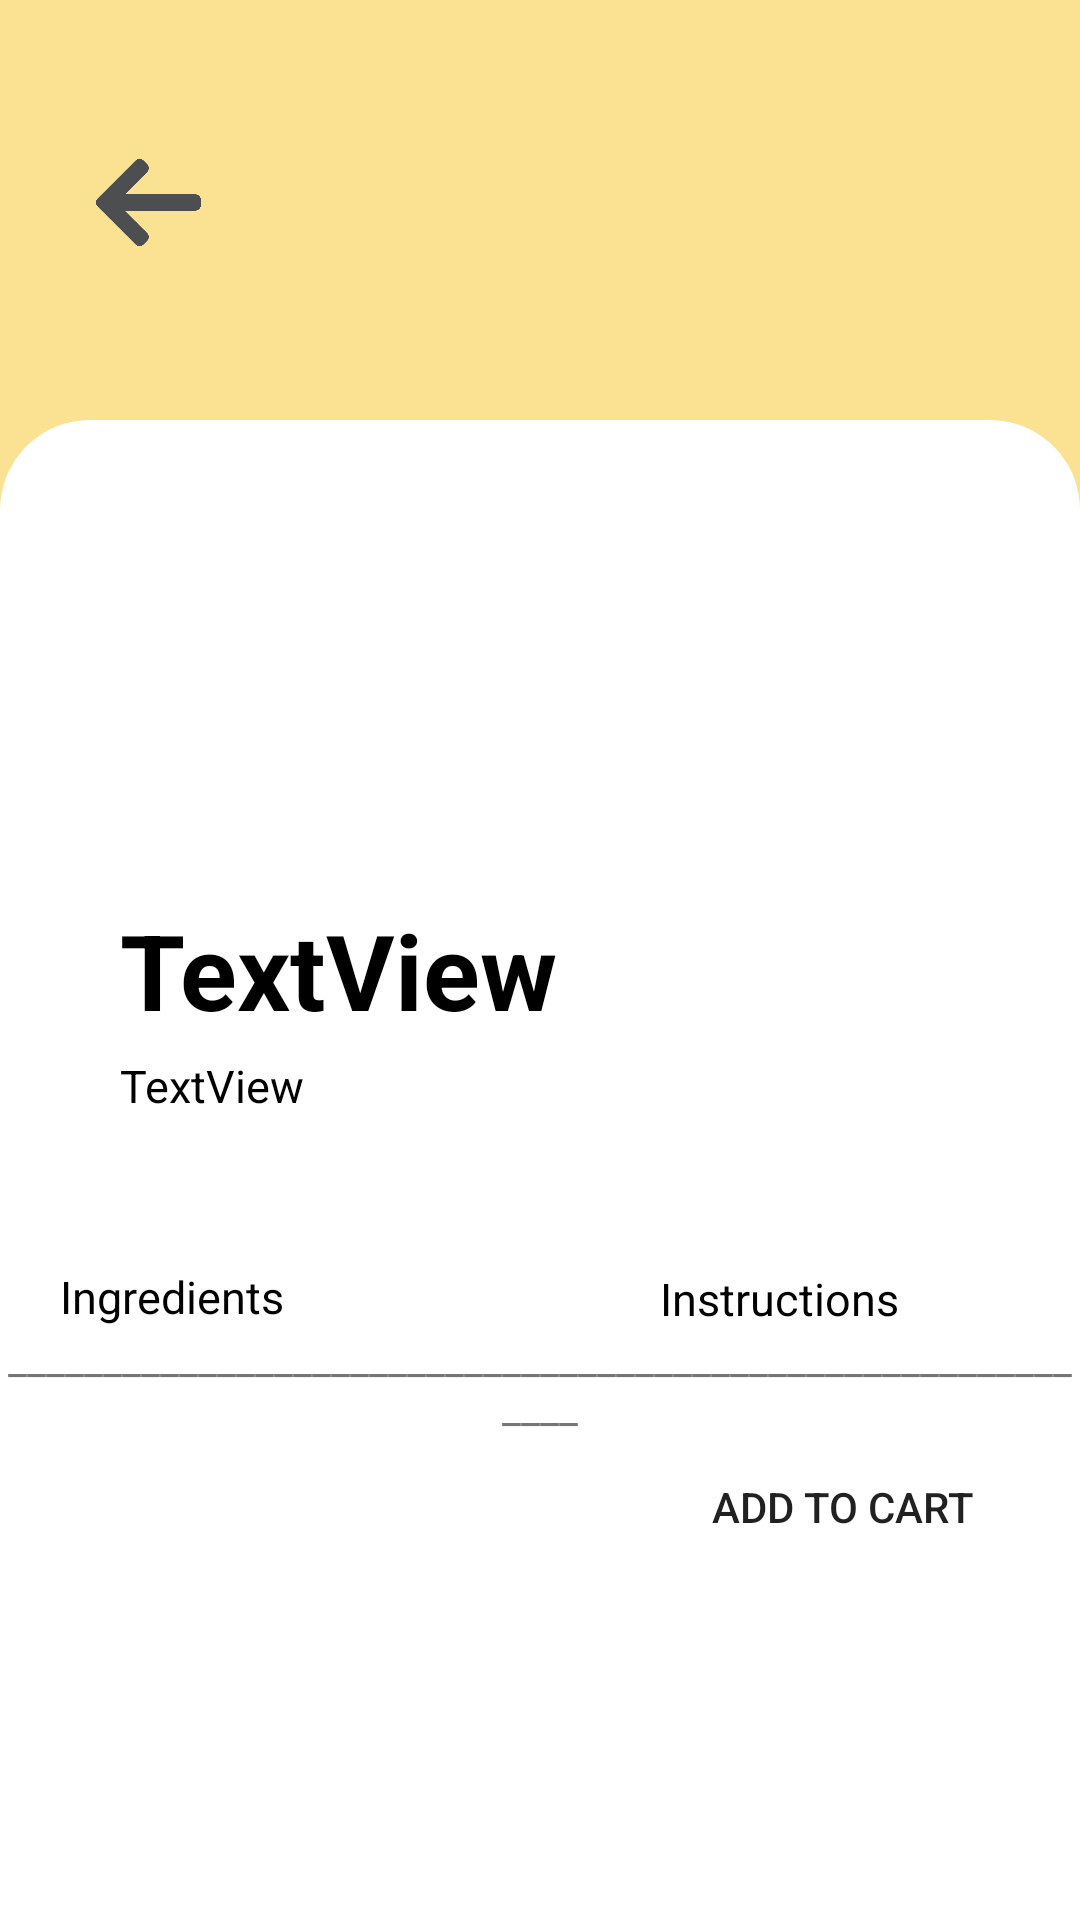

Icons on this 1080×1920 Android screen, each with its box as (x1, y1, x2, y2):
left arrow: (96, 159, 201, 246)
